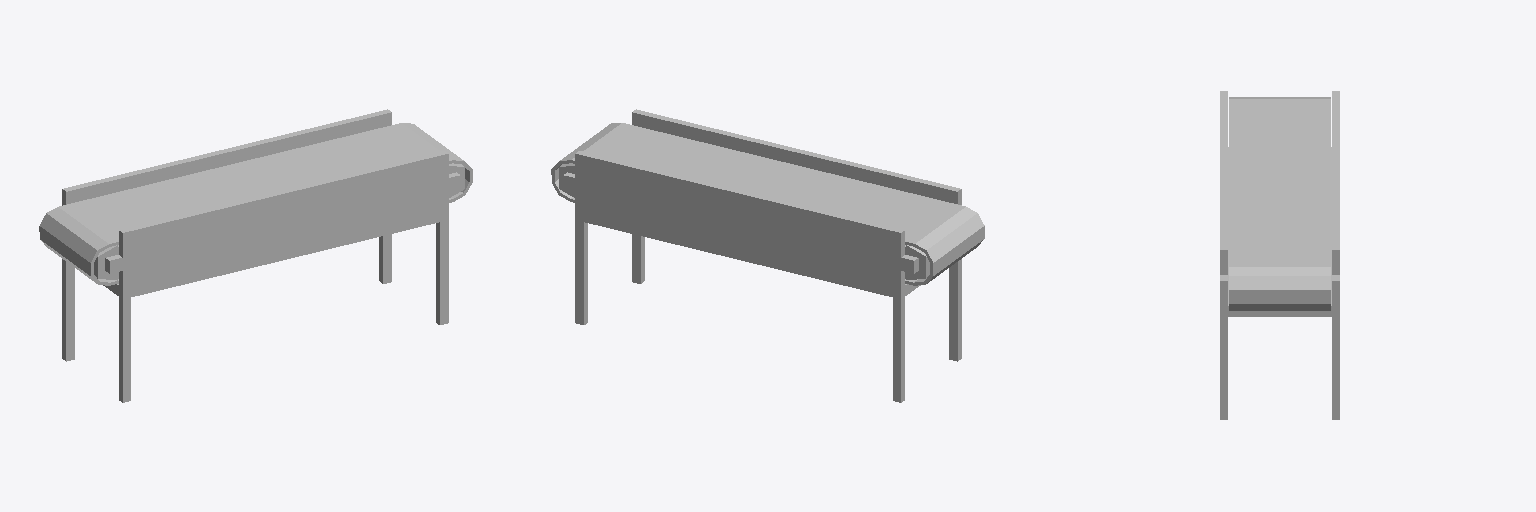
Rendered from Conveyor_01.obj.
The picture shows the model from 3 angles: view 1: azimuth 30°, elevation 25°; view 2: azimuth 150°, elevation 25°; view 3: azimuth 270°, elevation 25°; orthographic projection.
Visible parts, largest first — view 1: Conveyor_Belt Stand, Conveyor_Belt Belt_Low; view 2: Conveyor_Belt Stand, Conveyor_Belt Belt_Low; view 3: Conveyor_Belt Belt_Low, Conveyor_Belt Stand.
Boxes of the visible parts, box(x1,y1,x2,y2) form: Conveyor_Belt Stand: box(62, 109, 460, 402); Conveyor_Belt Belt_Low: box(39, 123, 472, 285); Conveyor_Belt Stand: box(563, 109, 961, 402); Conveyor_Belt Belt_Low: box(551, 123, 984, 285); Conveyor_Belt Belt_Low: box(1229, 97, 1330, 310); Conveyor_Belt Stand: box(1220, 91, 1339, 419).
Bounding box in the file's own units: 226 × 95.92 × 61.94.